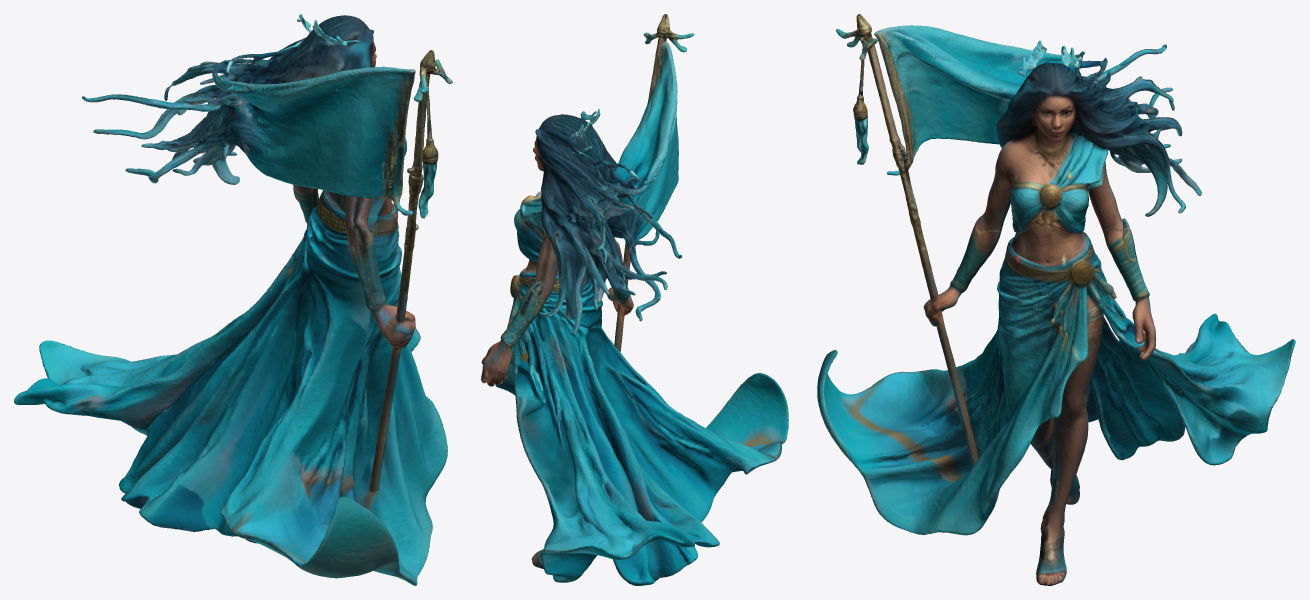
The model's file is modelo38.glb.
The picture shows the model from 3 angles, left to right: view 1: azimuth 30°, elevation 25°; view 2: azimuth 150°, elevation 25°; view 3: azimuth 270°, elevation 25°; orthographic projection. The views are drawn at different scales.
Parts seen in each view (by area): view 1: tripo_node_09798a32-19f6-490b-acc5-7fd67e3993bc; view 2: tripo_node_09798a32-19f6-490b-acc5-7fd67e3993bc; view 3: tripo_node_09798a32-19f6-490b-acc5-7fd67e3993bc.
Part boxes in pixels (x1=…): tripo_node_09798a32-19f6-490b-acc5-7fd67e3993bc: x1=14, y1=14, x2=452, y2=585; tripo_node_09798a32-19f6-490b-acc5-7fd67e3993bc: x1=481, y1=14, x2=788, y2=585; tripo_node_09798a32-19f6-490b-acc5-7fd67e3993bc: x1=817, y1=14, x2=1295, y2=585.
Bounding box in the file's own units: 0.5696 × 1 × 0.7905.
1 material, 1 textured.
